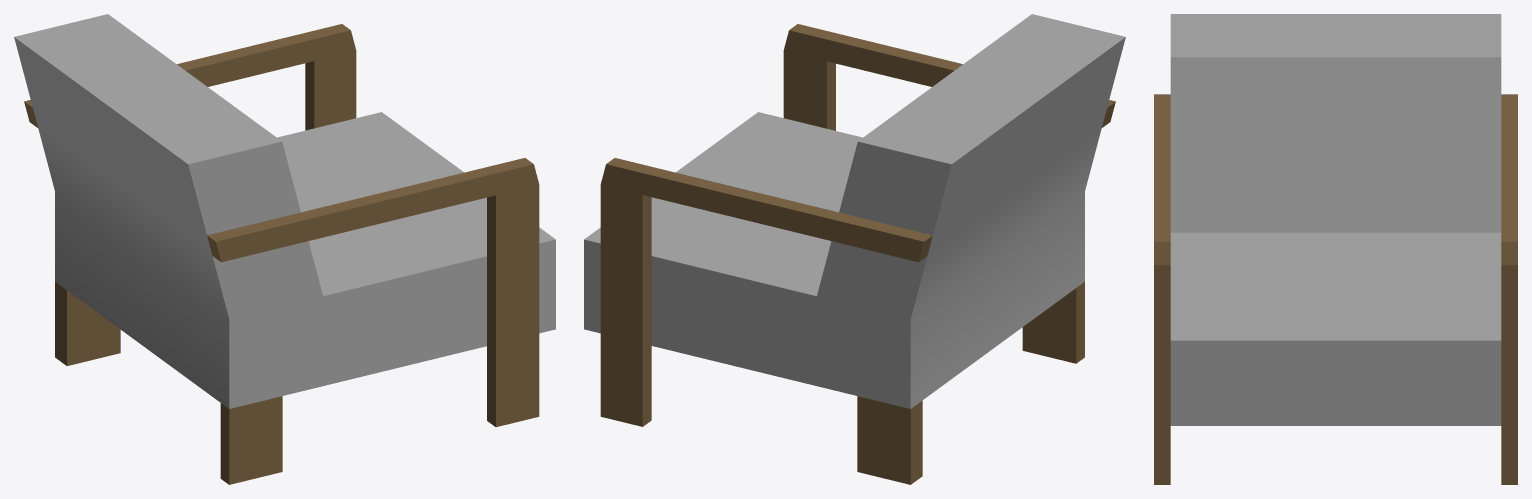
The model's file is SofaShortWhite.fbx.
The picture shows the model from 3 angles, left to right: view 1: azimuth 30°, elevation 25°; view 2: azimuth 150°, elevation 25°; view 3: azimuth 270°, elevation 25°; orthographic projection. The views are drawn at different scales.
Parts seen in each view (by area): view 1: pCube6; view 2: pCube6; view 3: pCube6.
Boxes of the visible parts, x1=… form: pCube6: x1=14, y1=14, x2=555, y2=484; pCube6: x1=584, y1=14, x2=1125, y2=484; pCube6: x1=1154, y1=14, x2=1517, y2=484.
Size of the model in its own units: 8.16 by 7.01 by 7.37.
